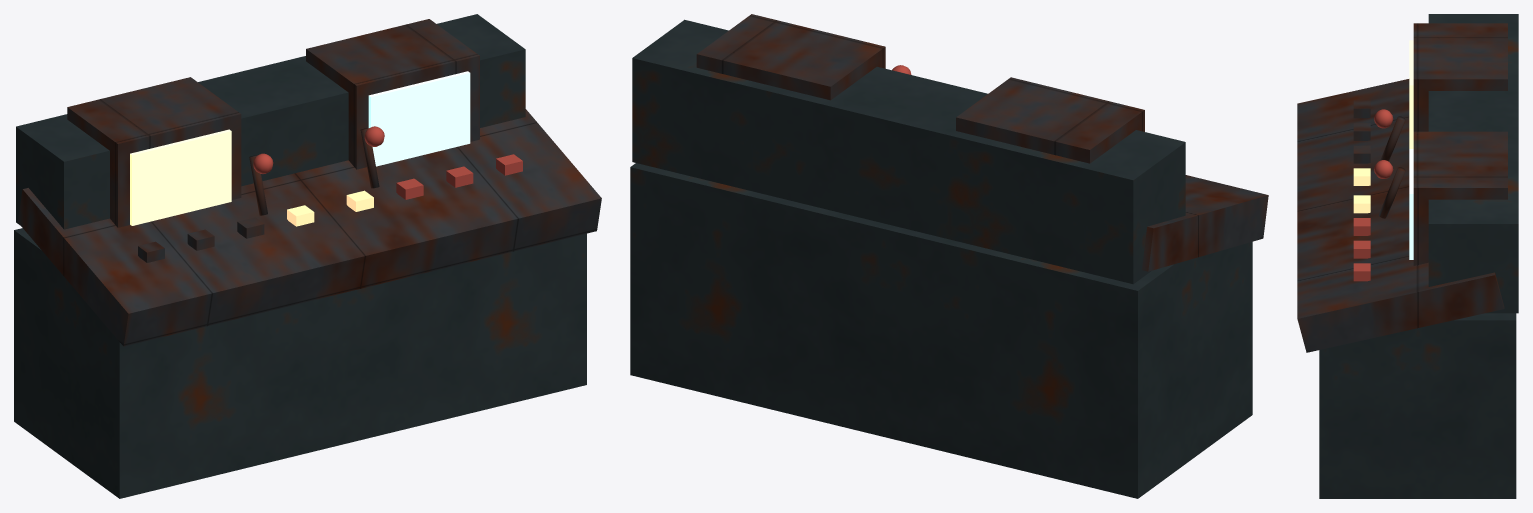
The model's file is Prop_ControlConsole.fbx.
3 renders of one model, left to right at view 1: azimuth 30°, elevation 25°; view 2: azimuth 150°, elevation 25°; view 3: azimuth 270°, elevation 25°, orthographic. The views are drawn at different scales.
Visible parts, largest first — view 1: Prop_ControlConsole; view 2: Prop_ControlConsole; view 3: Prop_ControlConsole.
Boxes of the visible parts, <box> form: Prop_ControlConsole: <box>14,14,601,498</box>; Prop_ControlConsole: <box>630,14,1268,498</box>; Prop_ControlConsole: <box>1297,14,1518,498</box>.
Bounding box in the file's own units: 2.38 × 1.47 × 1.03.
